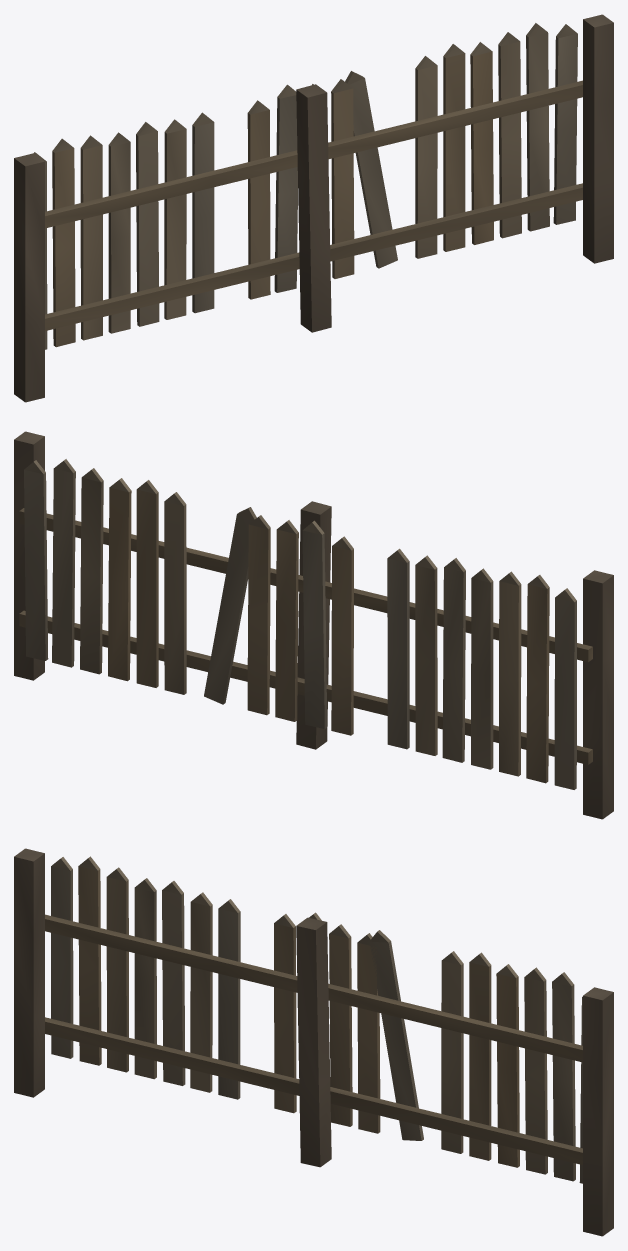
The model's file is m01_prop_fence_wood_lod0.glb.
3 views of the same model, one above another, from view 1: azimuth 30°, elevation 25°; view 2: azimuth 150°, elevation 25°; view 3: azimuth 330°, elevation 25° (orthographic).
Parts seen in each view (by area): view 1: fence_wood; view 2: fence_wood; view 3: fence_wood.
Boxes of the visible parts, box(x1,y1,x2,y2) form: fence_wood: box(14, 14, 613, 402); fence_wood: box(14, 431, 613, 819); fence_wood: box(14, 848, 613, 1236).
Bounding box in the file's own units: 3 × 1.15 × 0.176.
